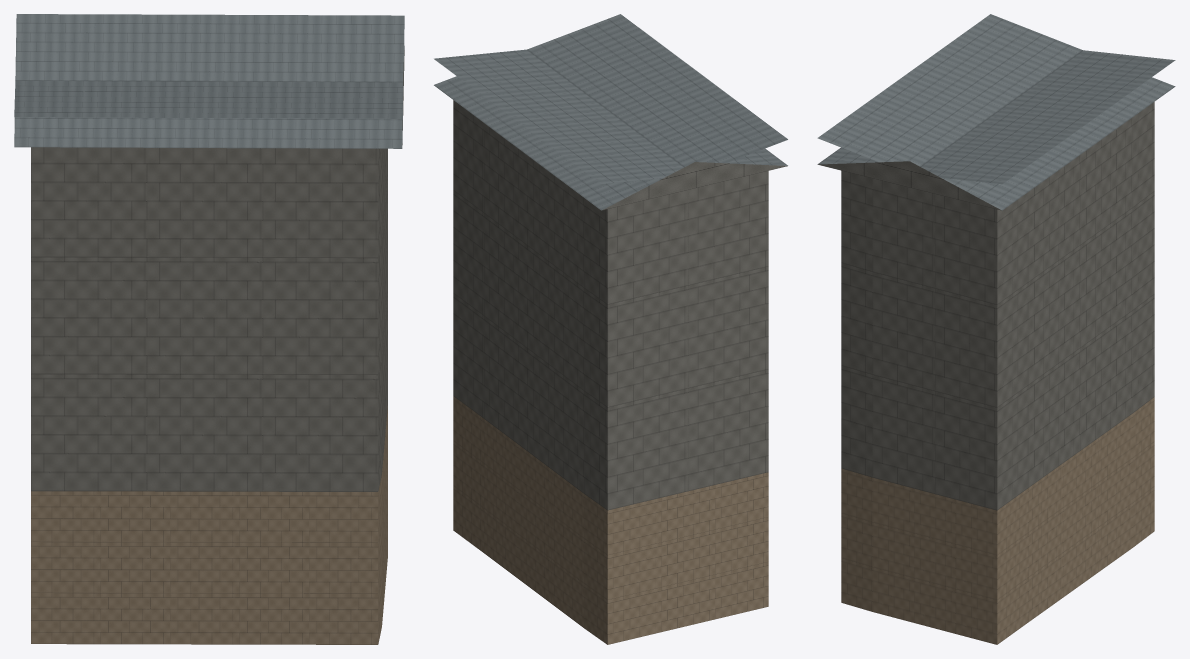
The model's file is bld_c23_-49_533.gltf.
3 views of the same model, side by side, from view 1: azimuth 30°, elevation 25°; view 2: azimuth 150°, elevation 25°; view 3: azimuth 270°, elevation 25° (orthographic). The views are drawn at different scales.
Parts seen in each view (by area): view 1: bld_c23_-49_533; view 2: bld_c23_-49_533; view 3: bld_c23_-49_533.
Boxes of the visible parts, x1,y1,x2,y2 form: bld_c23_-49_533: (14, 14, 404, 644); bld_c23_-49_533: (434, 14, 787, 644); bld_c23_-49_533: (817, 14, 1175, 644).
Bounding box in the file's own units: 13.86 × 17.8 × 12.33.
Materials: 4 (4 with a texture image).
